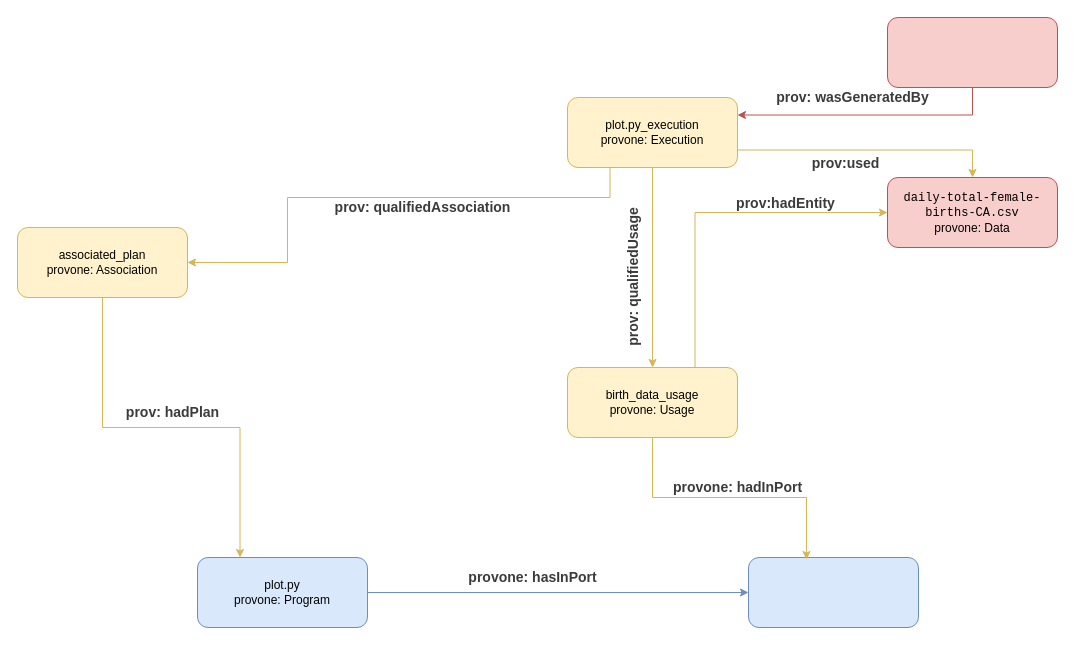
Some shapes in this 1075 by 645 pixel diagram are drawn without their labels. Each missing label, with the box of its shape:
birth_data_port provone: Port: (748, 556, 918, 628)
female-daily-births.png provone: Data: (886, 16, 1058, 88)
